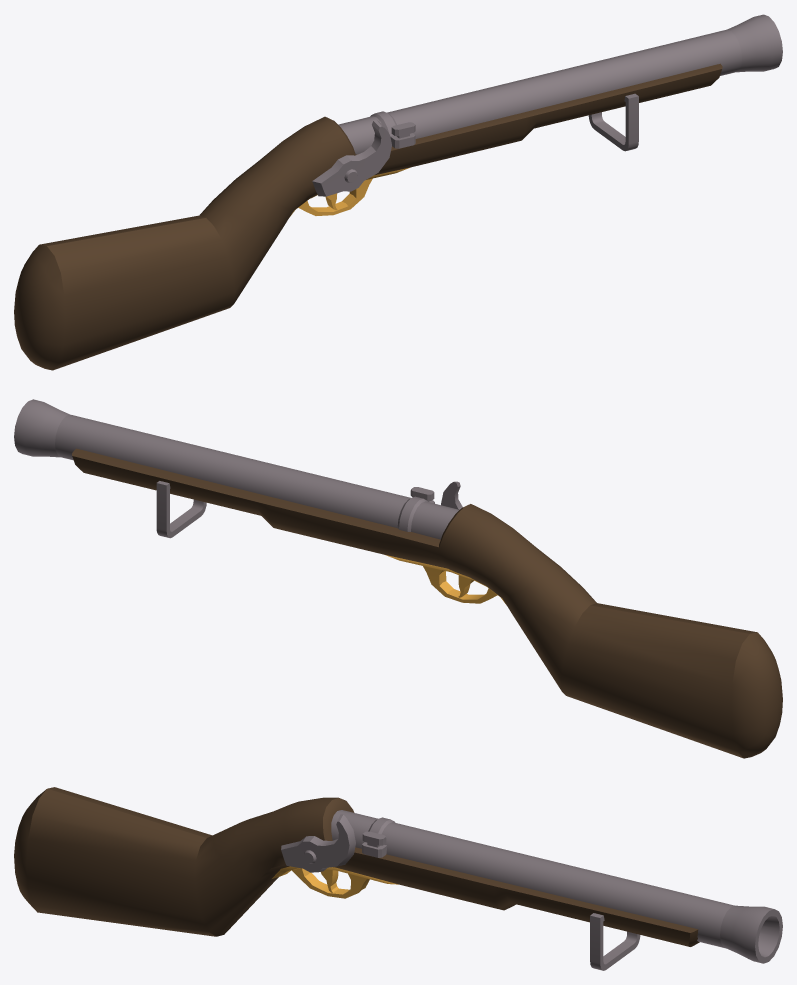
File: rifle.glb
3 views of the same model, one above another, from view 1: azimuth 30°, elevation 25°; view 2: azimuth 150°, elevation 25°; view 3: azimuth 330°, elevation 25° (orthographic).
Size of the model in its own units: 1.2 by 0.2839 by 0.118.
1 material, 1 textured.
